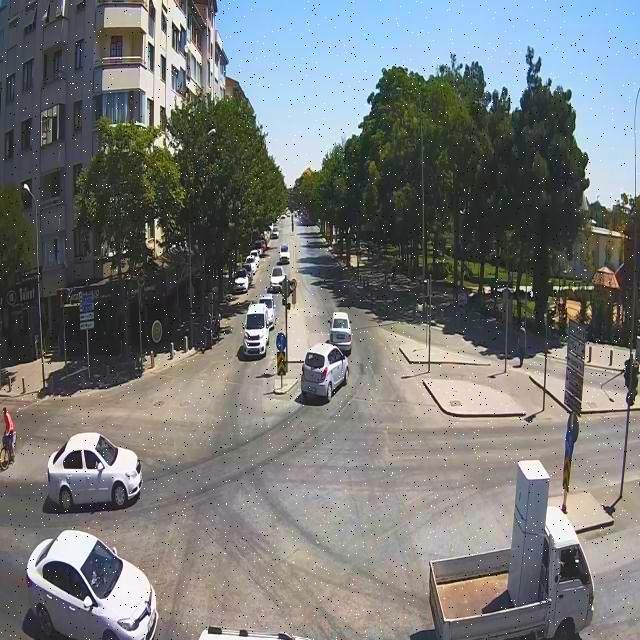Car: (23, 528, 157, 638), (46, 432, 144, 510), (300, 342, 350, 399), (242, 304, 271, 357), (329, 312, 352, 353), (258, 294, 276, 328), (270, 265, 286, 289), (232, 272, 249, 293), (243, 259, 259, 279), (278, 244, 290, 263), (249, 250, 261, 266), (270, 230, 279, 239)
Truck: (427, 457, 596, 640)
